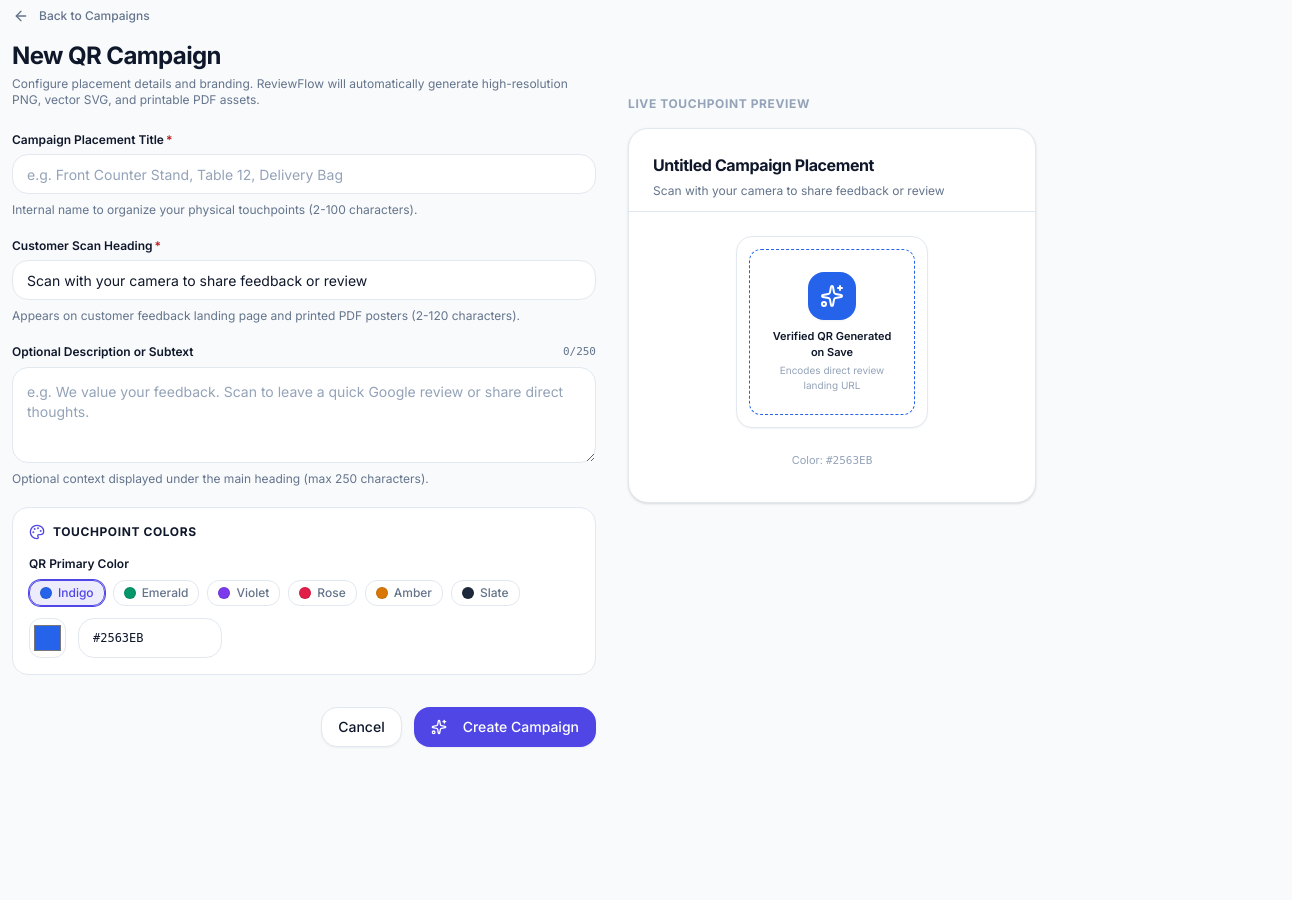
CampaignForm Component › should display API error banner when creation fails
Type "Duplicate Stand" into the field labelled "Campaign Placement Title*" at [304, 174], box 12,154 -> 596,194
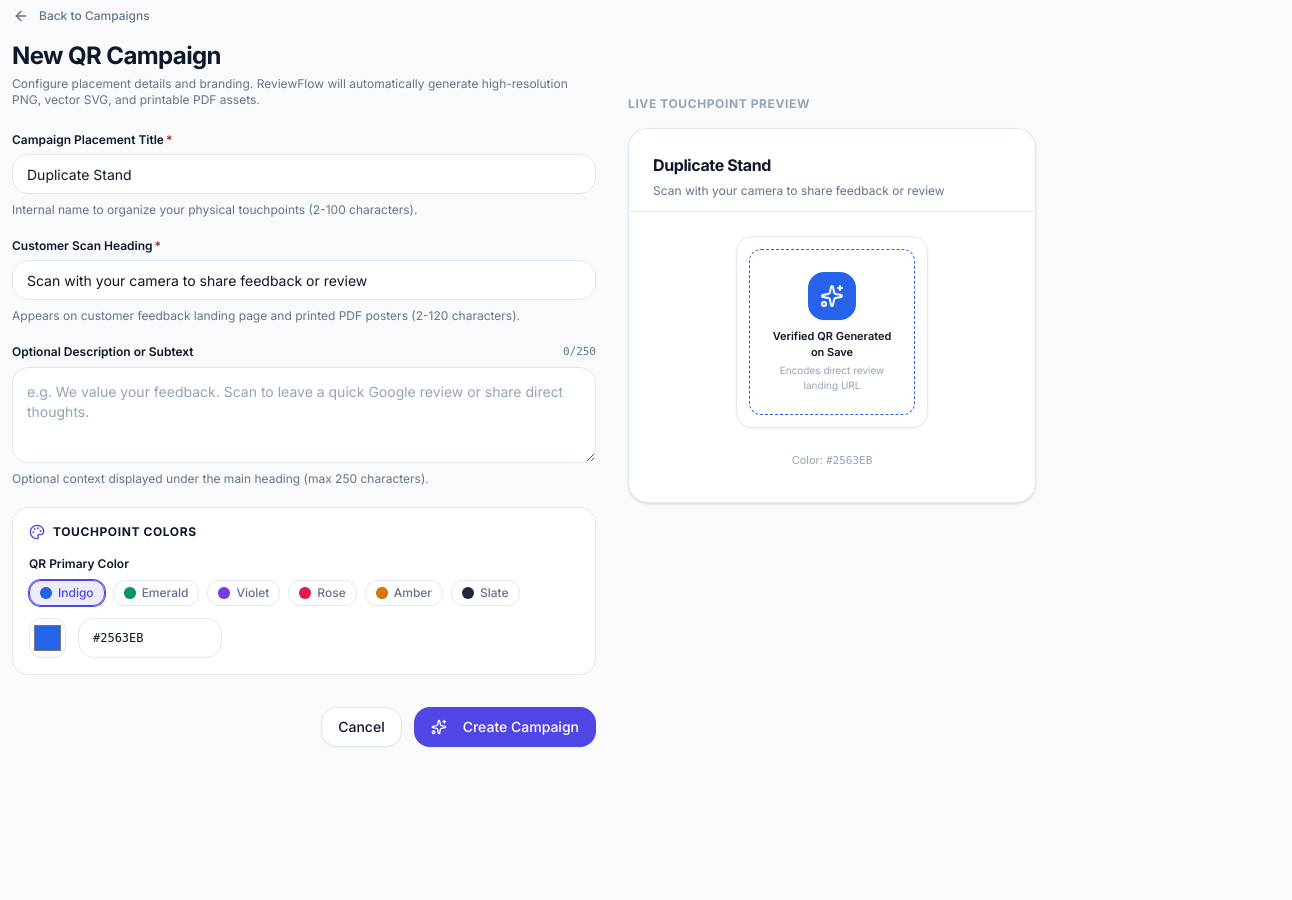
Click the button "Create Campaign" at [505, 726], box 414,706 -> 596,746
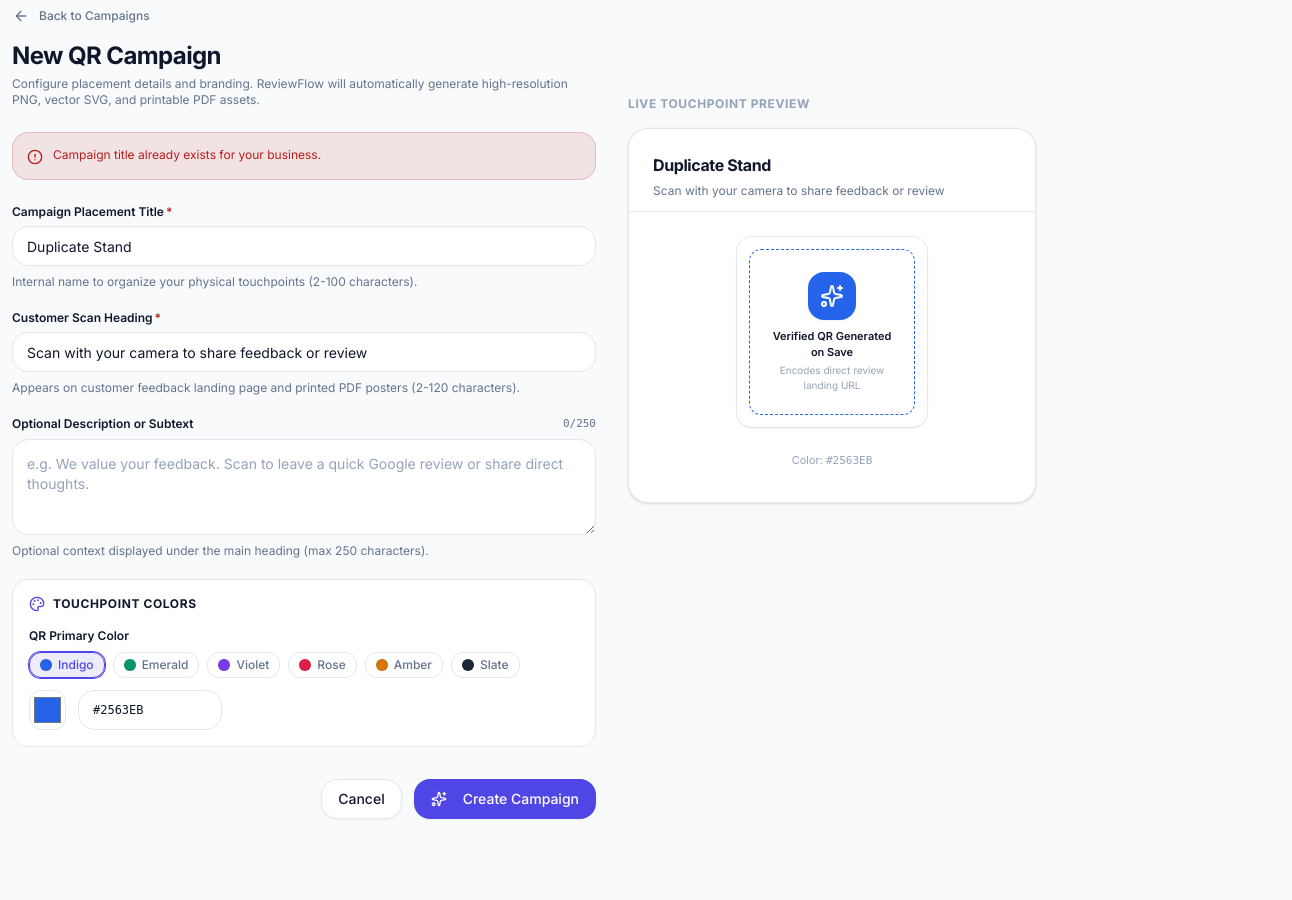
expect the message "Campaign title already exists for your business." is shown: met, box 12,132 -> 596,180
expect the text "Campaign title already exists for your business." is shown: met, box 53,147 -> 321,163
